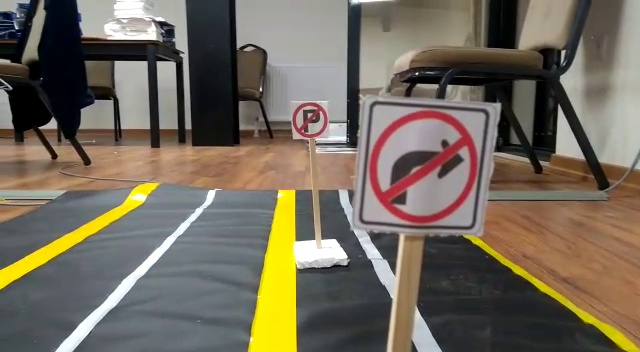park_yapilmaz: (290, 102, 328, 138)
saga_donulmez: (364, 102, 479, 230)
